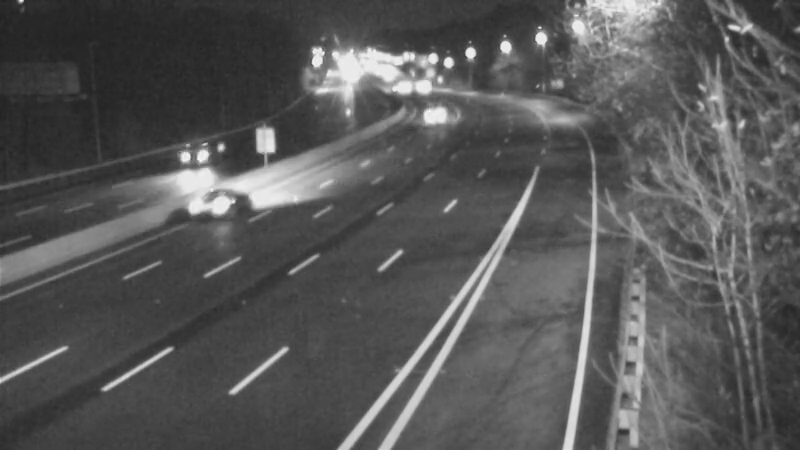vehicle: (182, 168, 262, 248), (153, 122, 233, 202), (405, 90, 455, 140)
